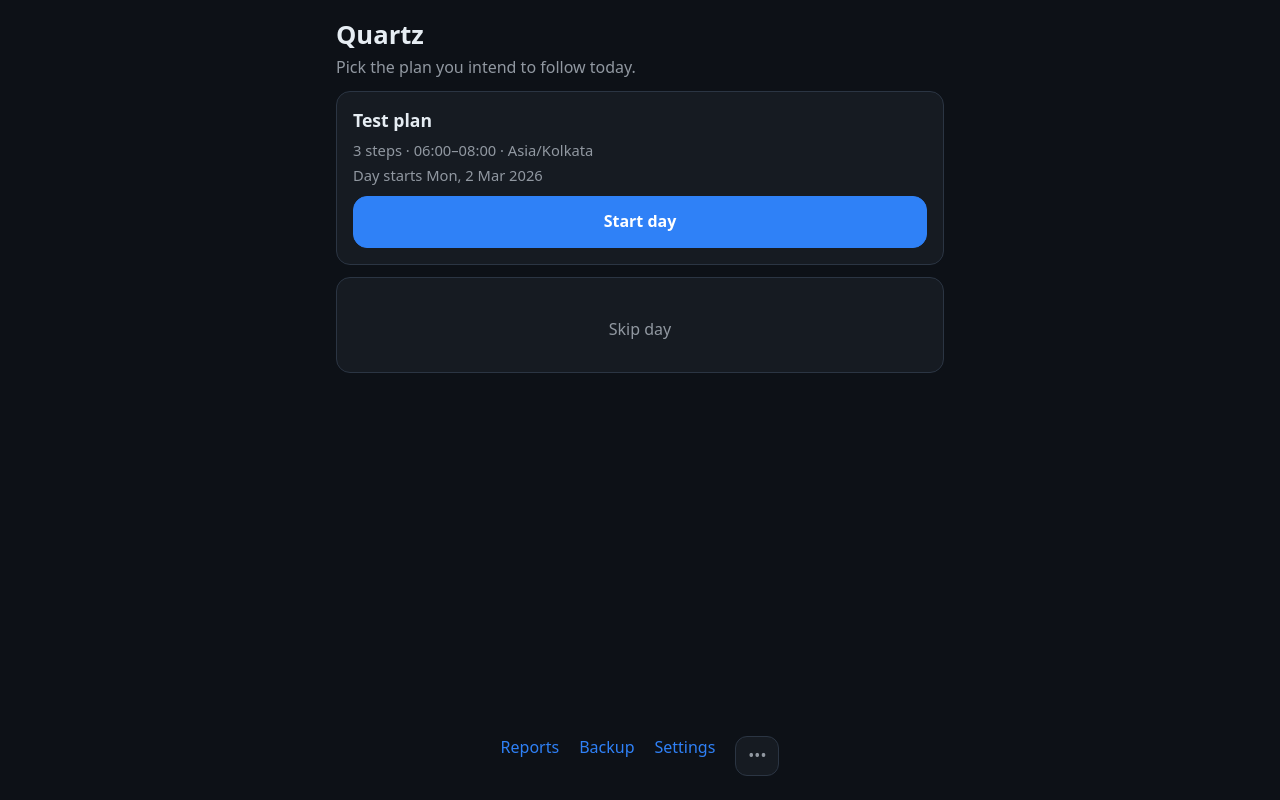
Test case: active run screen › plays one error cue for submitted local time validation
The image size is (1280, 800).
Click the button "Start day" at (640, 222), box [353,196,927,248]
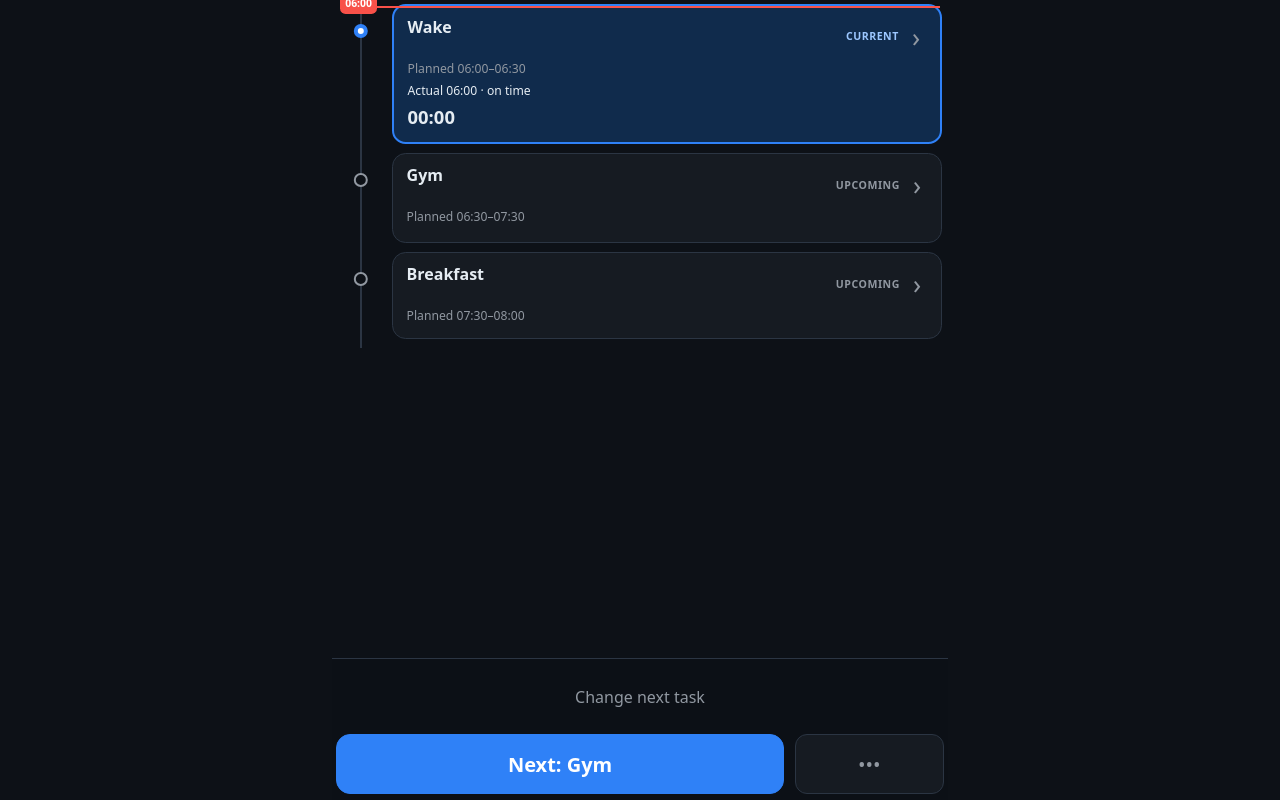
Expected: the heading "Wake" is shown, [408,16,452,38]
Click the button with aria-label "Open Wake details" at (430, 27), box [392,4,942,144]
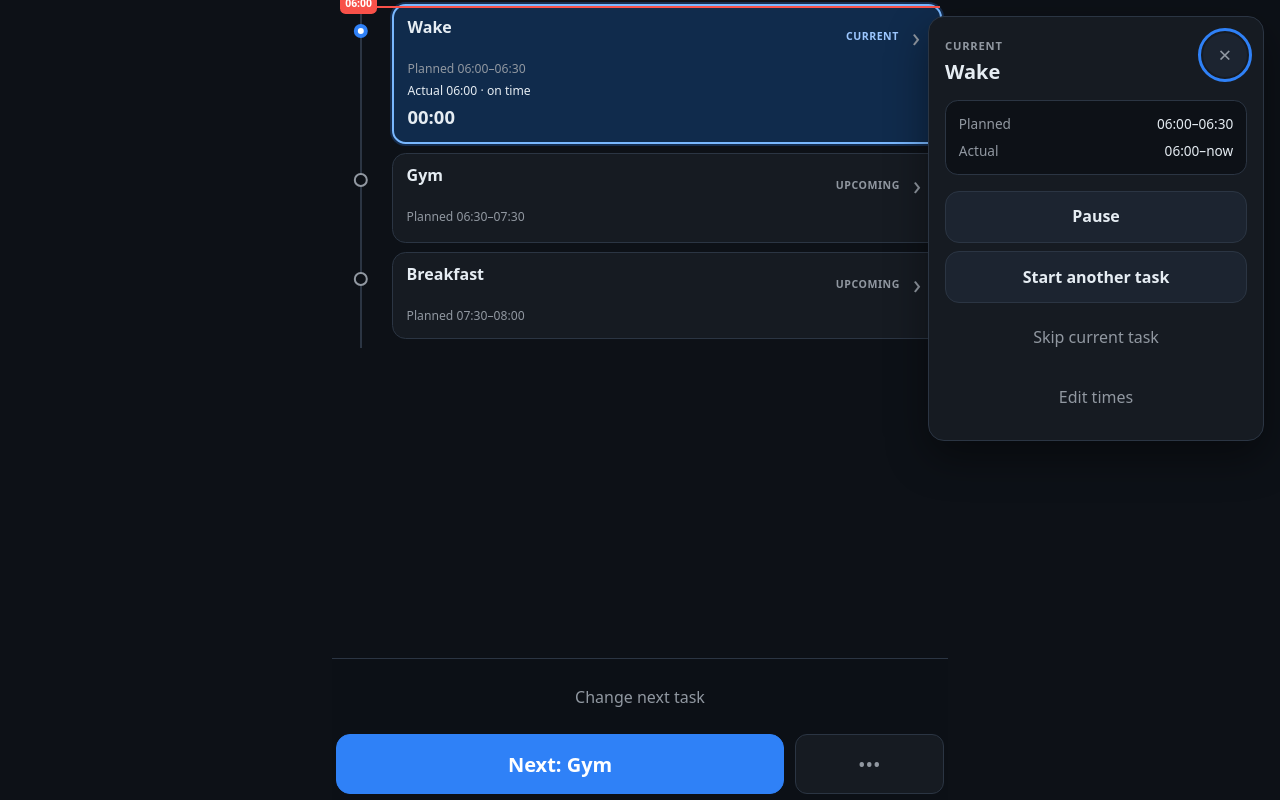
Click the button "Edit times" at (1096, 398), box [945,372,1247,424]
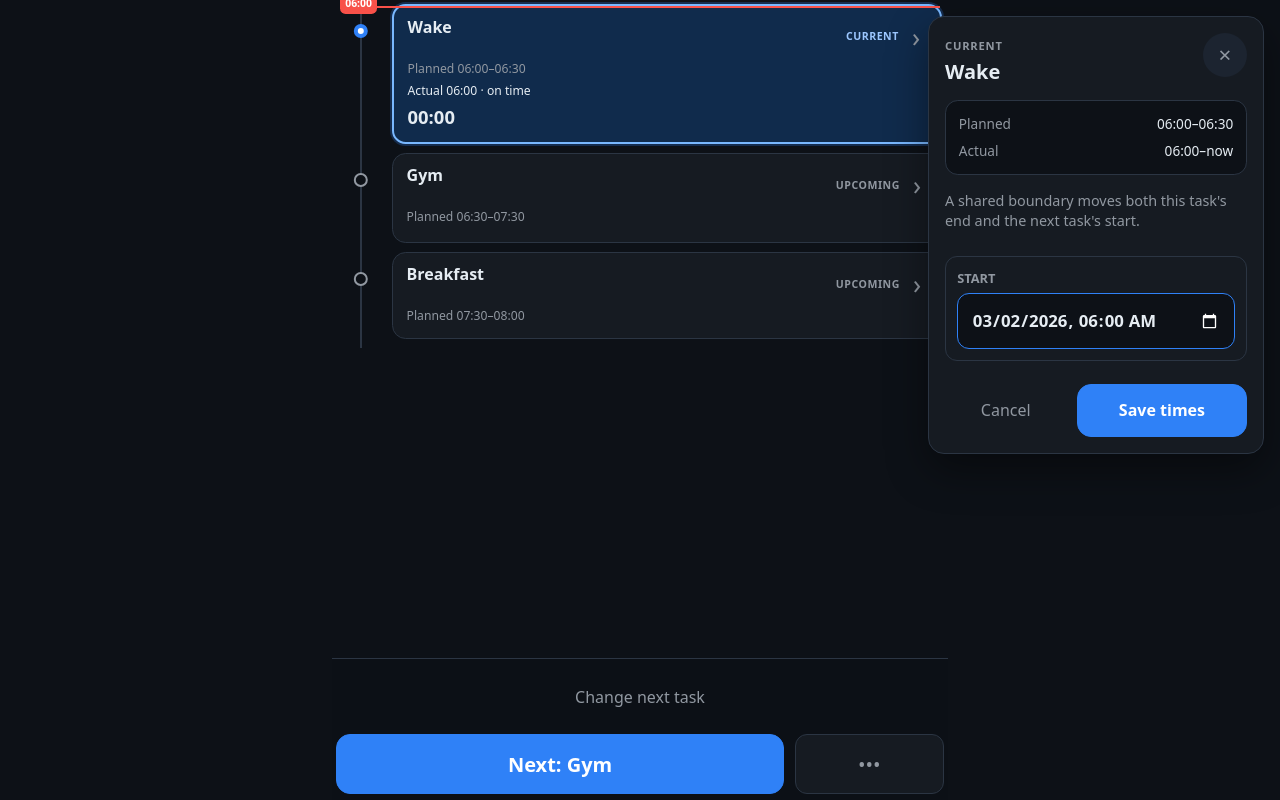
Clear the field labelled "Start" at (1096, 321), box [957,293,1235,349]
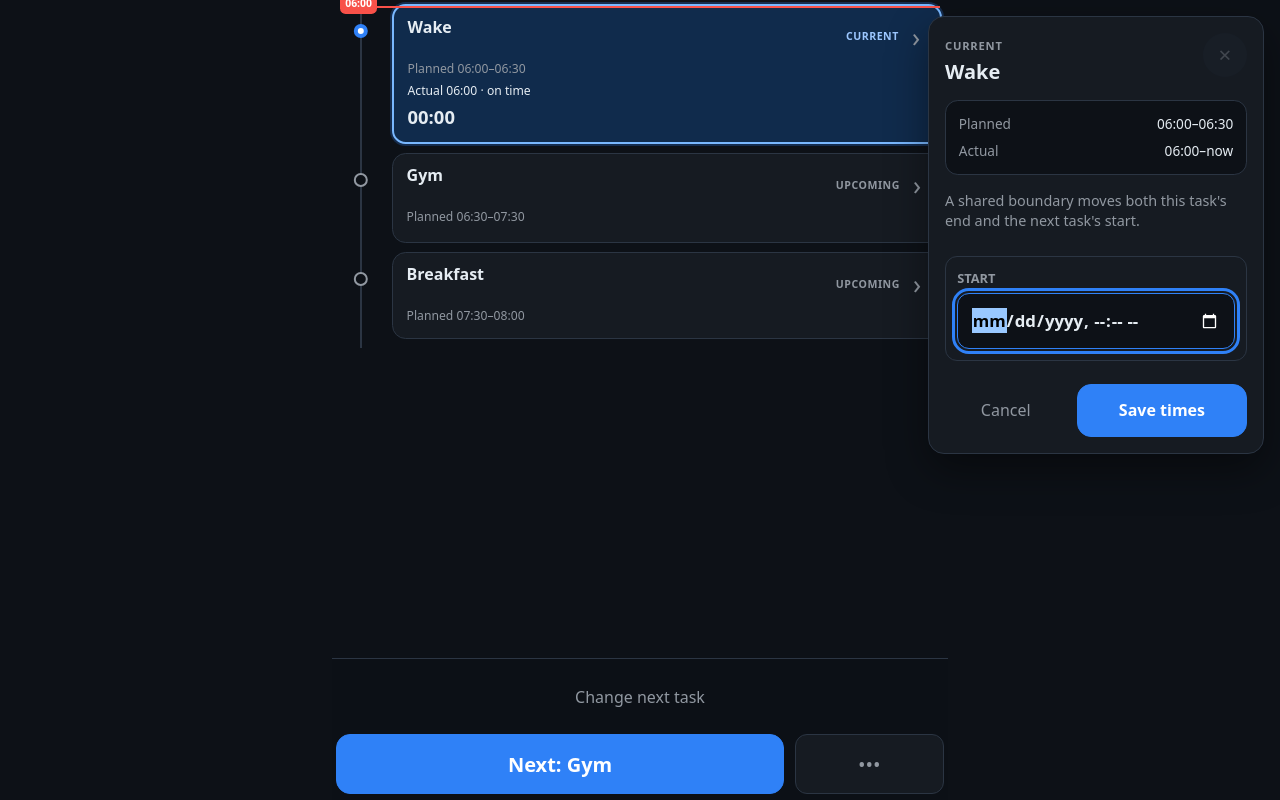
Click the button "Save times" at (1162, 410), box [1077,384,1247,437]
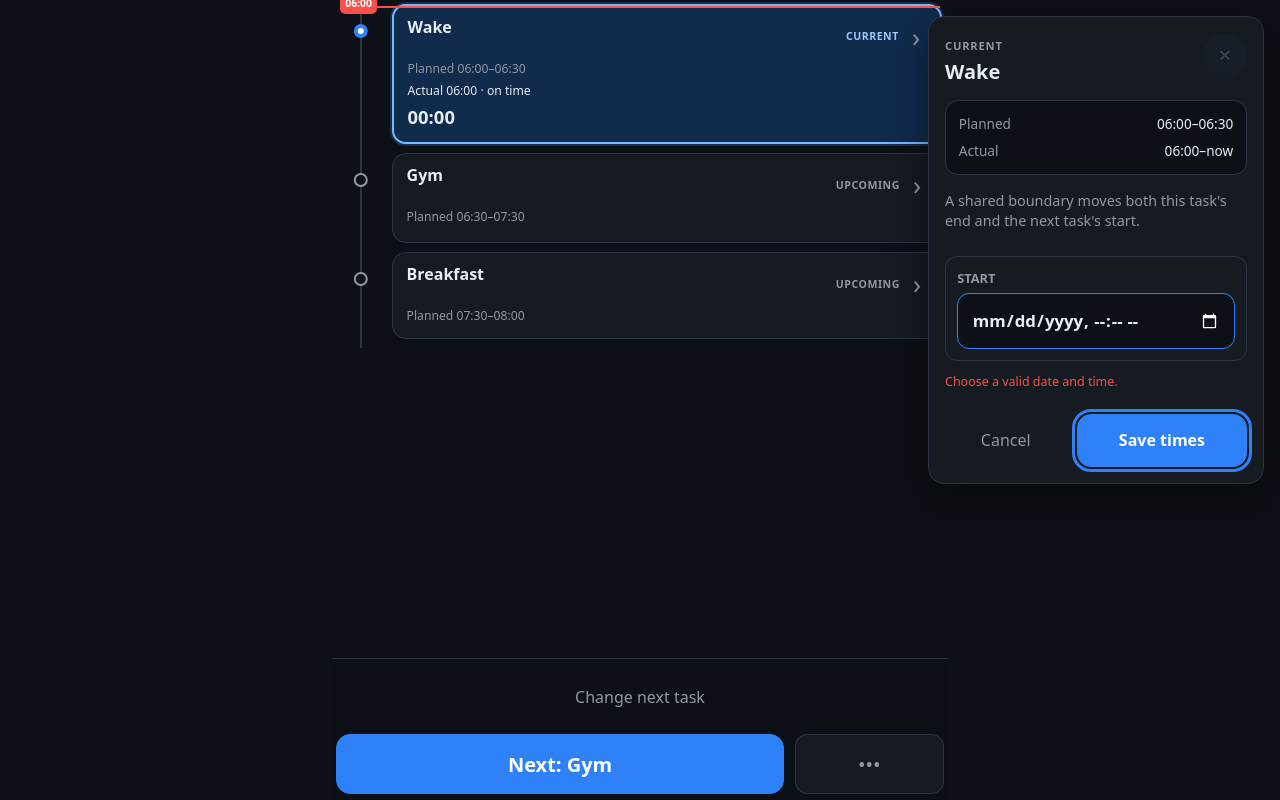
Expected: the message reads "Choose a valid date and time.", [945,373,1118,390]
